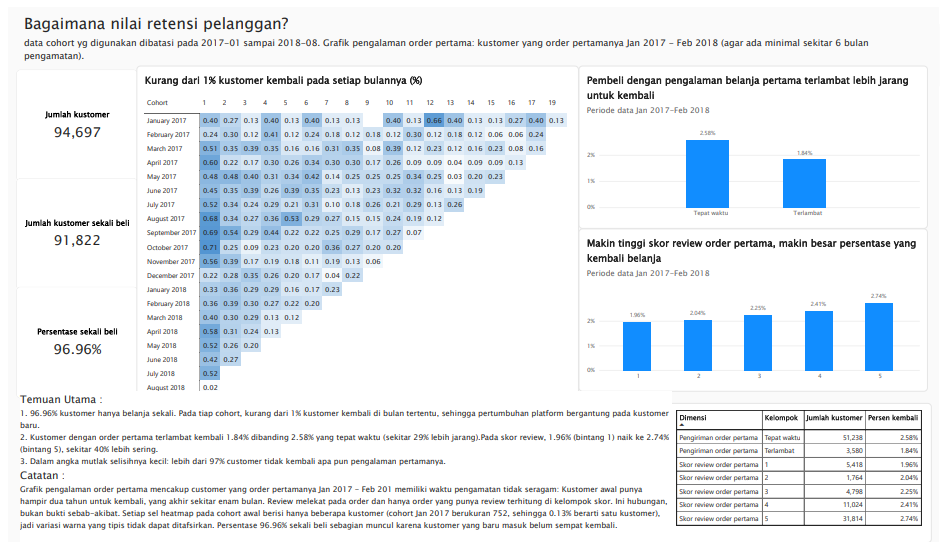

The dashboard page shown, as its layout file describes it:
{"tool":"powerbi","page":{"name":"Retensi Pelanggan","canvas":[1920,1105],"ordinal":2},"visuals":[{"type":"textbox","box":[32,0,1872,128],"z":0},{"type":"cardVisual","fields":{"Data":["Sum(Kustomer Sekali Beli.Kustomer)"]},"box":[16,128,250,230],"z":1000},{"type":"cardVisual","fields":{"Data":["Sum(Kustomer Sekali Beli.Kustomer Sekali Beli)"]},"box":[16,352,250,230],"z":2000},{"type":"cardVisual","fields":{"Data":["Kustomer Sekali Beli.Persentase Sekali"]},"box":[16,576,250,230],"z":3000},{"type":"pivotTable","title":"Kurang dari 1% kustomer kembali pada setiap bulannya (%)","fields":{"Columns":["Cohort.Umur"],"Rows":["Cohort.Cohort"],"Values":["Sum(Cohort.Retensi)"]},"box":[264,120,912,696],"z":4000},{"type":"clusteredColumnChart","title":"Pembeli dengan pengalaman belanja pertama terlambat lebih jarang untuk kembali","fields":{"Category":["Pengalaman Belanja.kelompok"],"Y":["Pengalaman Belanja.PersenKembali"]},"box":[1176,120,720,336],"z":5000},{"type":"clusteredColumnChart","title":"Makin tinggi skor review order pertama, makin besar persentase yang kembali belanja","fields":{"Category":["Pengalaman Belanja.kelompok"],"Y":["Pengalaman Belanja.PersenKembali"]},"box":[1176,456,720,336],"z":6000},{"type":"tableEx","fields":{"Values":["Pengalaman Belanja.dimensi","Pengalaman Belanja.kelompok","Sum(Pengalaman Belanja.jumlah_customer)","Pengalaman Belanja.PersenKembali"]},"box":[1360,816,544,288],"z":7000},{"type":"textbox","box":[24,792,1344,312],"z":8000}]}

Visuals, with their boxes in screenshot pixels (x1, y1, x2, y2), scaled from the page's 1920x1105 canvas onto the 947x542 screenshot:
textbox: [left=16, top=0, right=939, bottom=63]
cardVisual - Sum(Kustomer Sekali Beli.Kustomer): [left=8, top=63, right=131, bottom=176]
cardVisual - Sum(Kustomer Sekali Beli.Kustomer Sekali Beli): [left=8, top=173, right=131, bottom=285]
cardVisual - Kustomer Sekali Beli.Persentase Sekali: [left=8, top=283, right=131, bottom=395]
"Kurang dari 1% kustomer kembali pada setiap bulannya (%)" pivotTable: [left=130, top=59, right=580, bottom=400]
"Pembeli dengan pengalaman belanja pertama terlambat lebih jarang untuk kembali" clusteredColumnChart: [left=580, top=59, right=935, bottom=224]
"Makin tinggi skor review order pertama, makin besar persentase yang kembali belanja" clusteredColumnChart: [left=580, top=224, right=935, bottom=388]
tableEx - Pengalaman Belanja.dimensi x Pengalaman Belanja.kelompok: [left=671, top=400, right=939, bottom=541]
textbox: [left=12, top=388, right=675, bottom=541]
